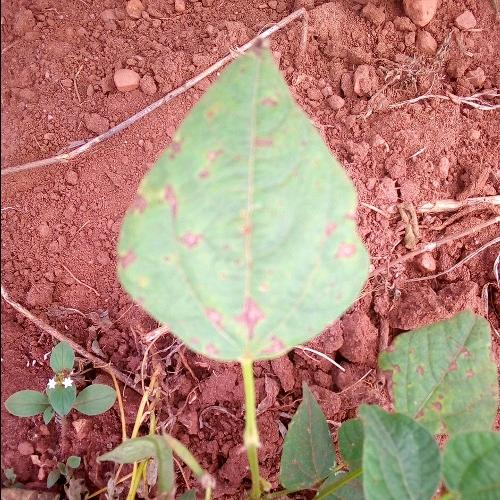hawar: (116, 176, 212, 263), (194, 288, 289, 366), (239, 86, 303, 194), (305, 213, 376, 282)
